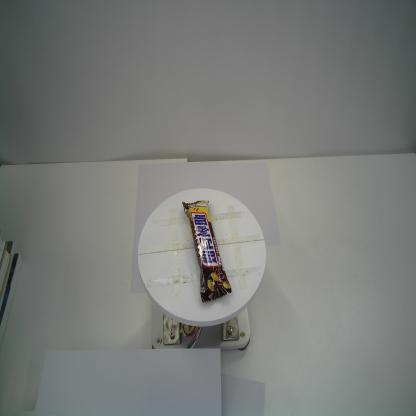Chocolate: (182, 200, 232, 304)
